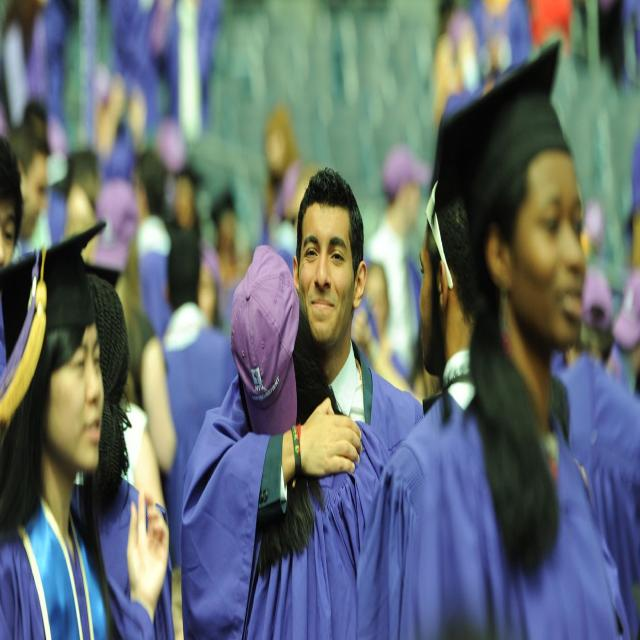body: (0, 0, 639, 479), (388, 29, 640, 639), (178, 151, 437, 639), (0, 217, 172, 639), (227, 244, 394, 639), (354, 163, 488, 639), (0, 264, 169, 639)
